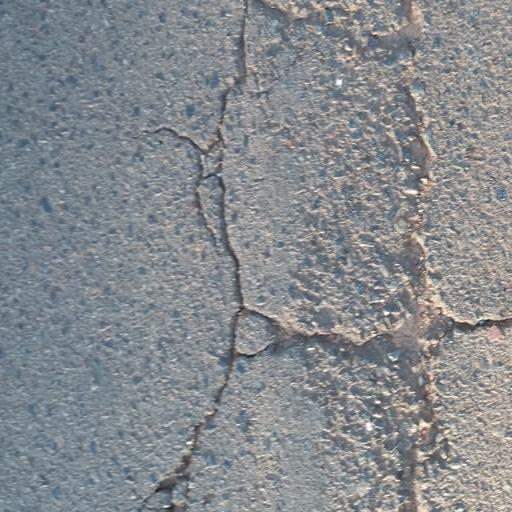GRIETA: (155, 366, 232, 495), (140, 126, 198, 151), (462, 320, 511, 333)
PIEL DE COCODRILO: (187, 0, 460, 511)
